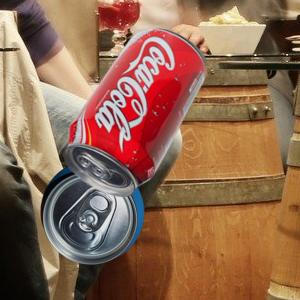can: (61, 30, 207, 193)
